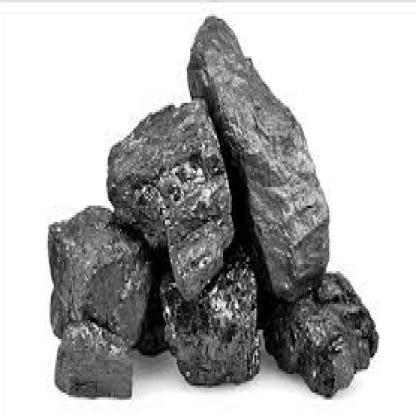Sedimentary_coal: (174, 7, 332, 309), (84, 93, 227, 309), (40, 201, 175, 348), (262, 252, 377, 376), (51, 325, 145, 409)
